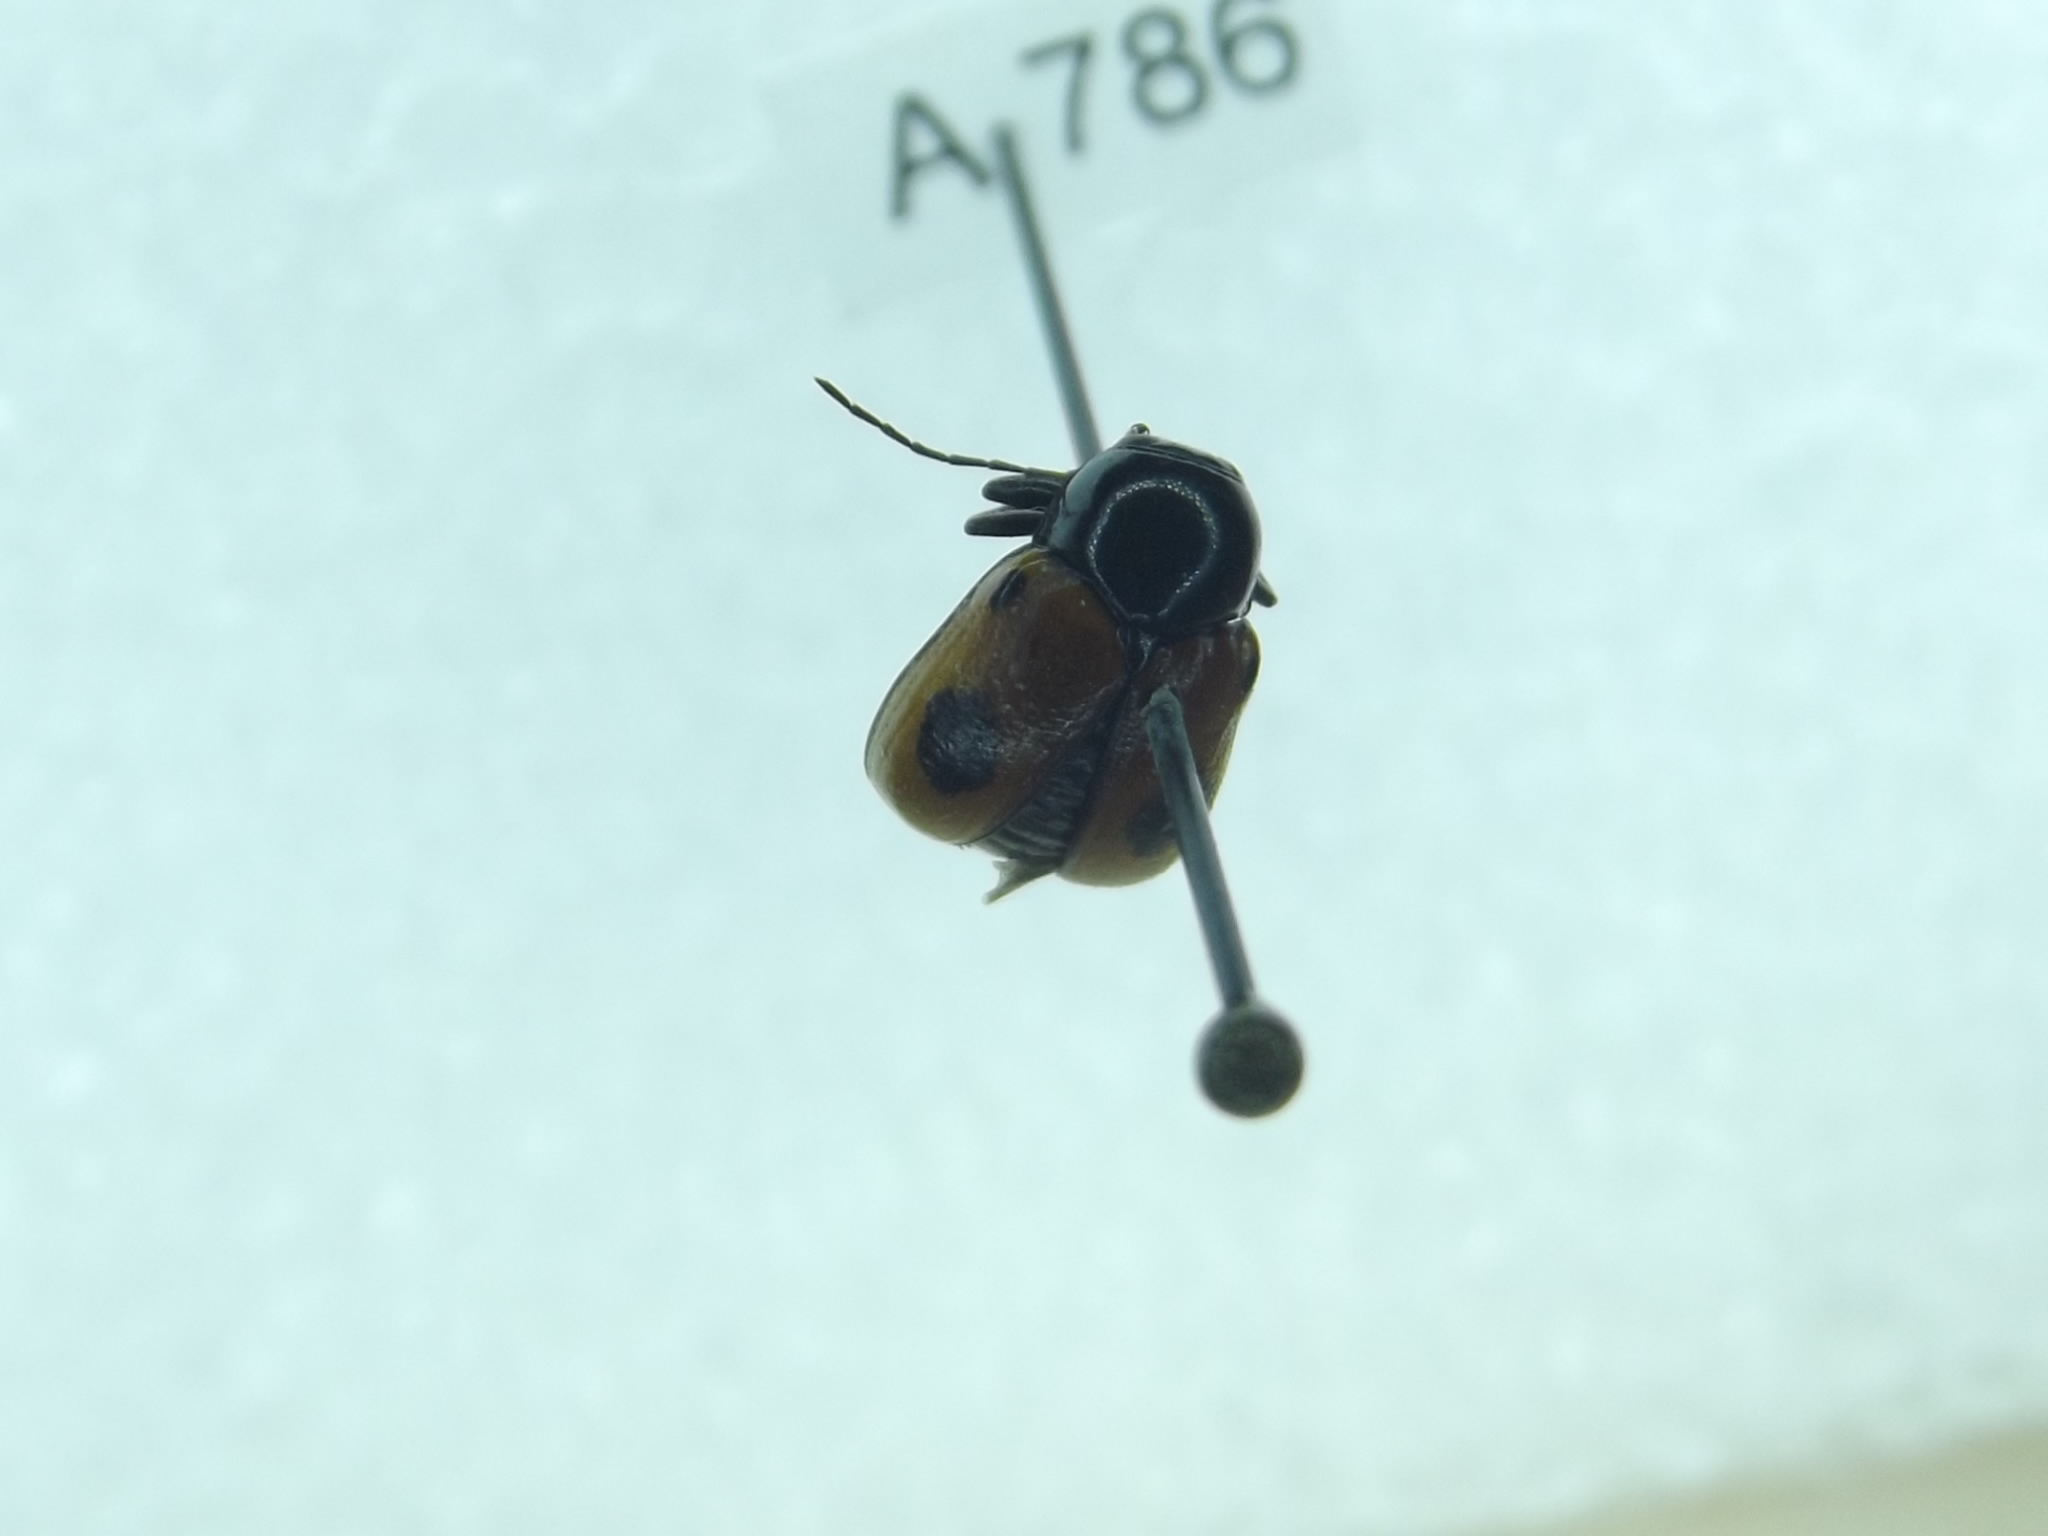Cryptocephalus_bipunctatus: (813, 352, 1292, 933)
